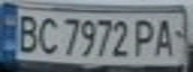2: (109, 16, 133, 58)
7: (57, 15, 81, 56), (93, 16, 115, 58)
9: (78, 16, 96, 57)
A: (151, 16, 181, 58)
B: (12, 11, 42, 54)
C: (33, 13, 60, 55)
P: (130, 16, 160, 58)
